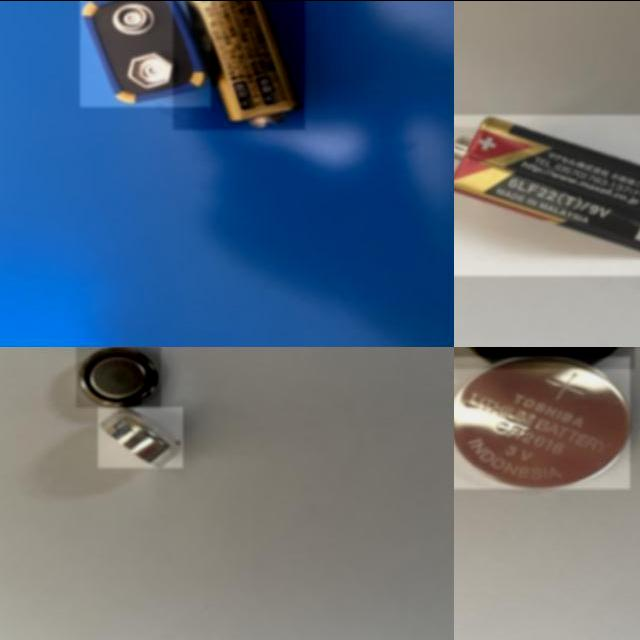9V: (454, 114, 640, 275), (173, 0, 304, 129), (80, 0, 211, 106)
